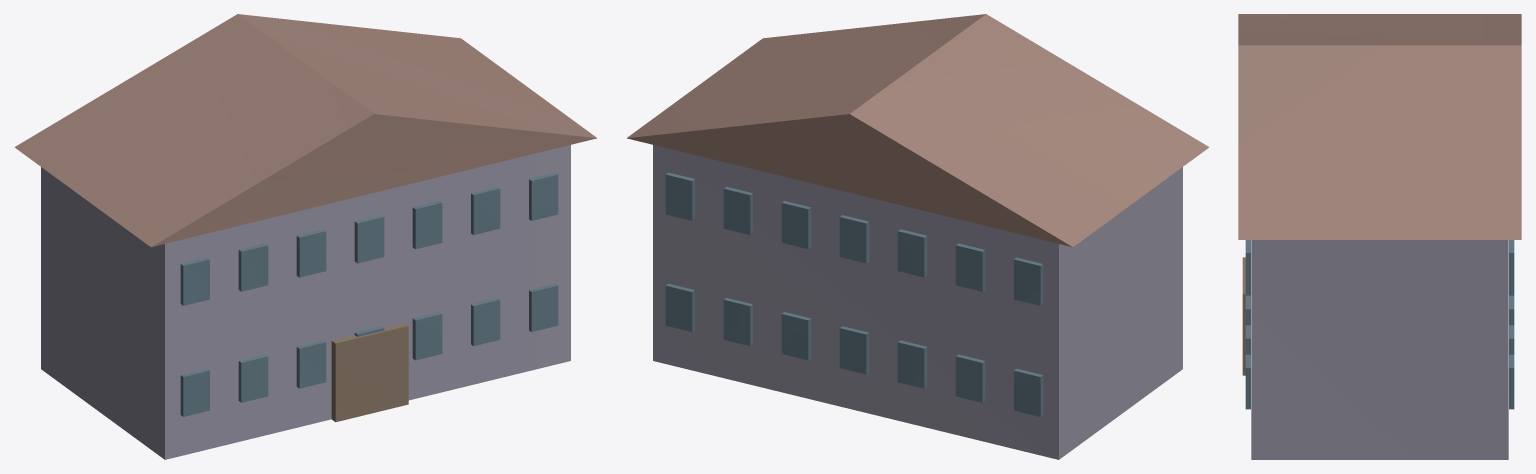
Rendered from station-02.glb.
3 views of the same model, side by side, from view 1: azimuth 30°, elevation 25°; view 2: azimuth 150°, elevation 25°; view 3: azimuth 270°, elevation 25° (orthographic). The views are drawn at different scales.
Parts seen in each view (by area): view 1: world; view 2: world; view 3: world.
Boxes of the visible parts, box(x1,y1,x2,y2) form: world: box(14, 14, 596, 459); world: box(627, 14, 1209, 459); world: box(1238, 14, 1521, 459).
Size of the model in its own units: 2.38 by 1.53 by 1.26.
